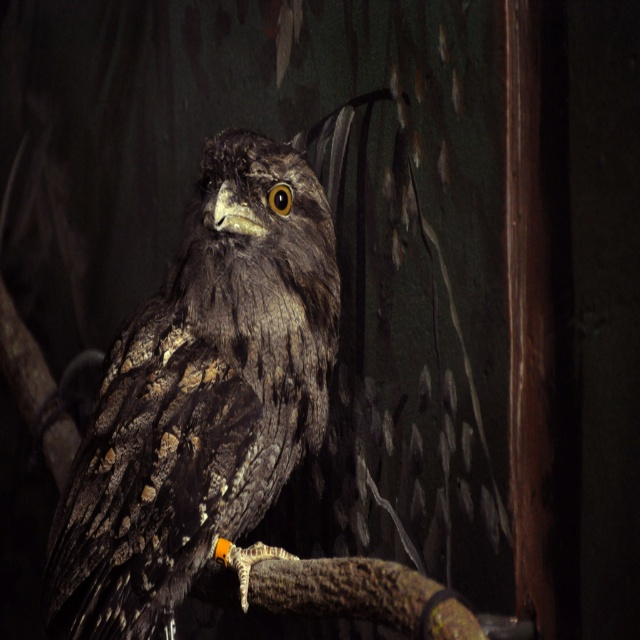Owl: (40, 124, 344, 639)
